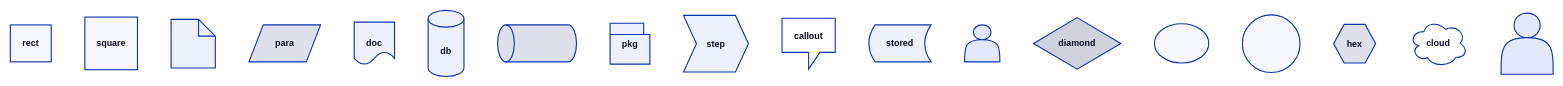
Image size: 1563x86. Some labels were removed from this diagram. Here are the shapes that lost their labels. From the top down, the centre of each, then its label:
(193,43): page
(537,43): queue
(982,43): person
(1181,43): oval
(1271,43): circle
(1526,43): c4 person
